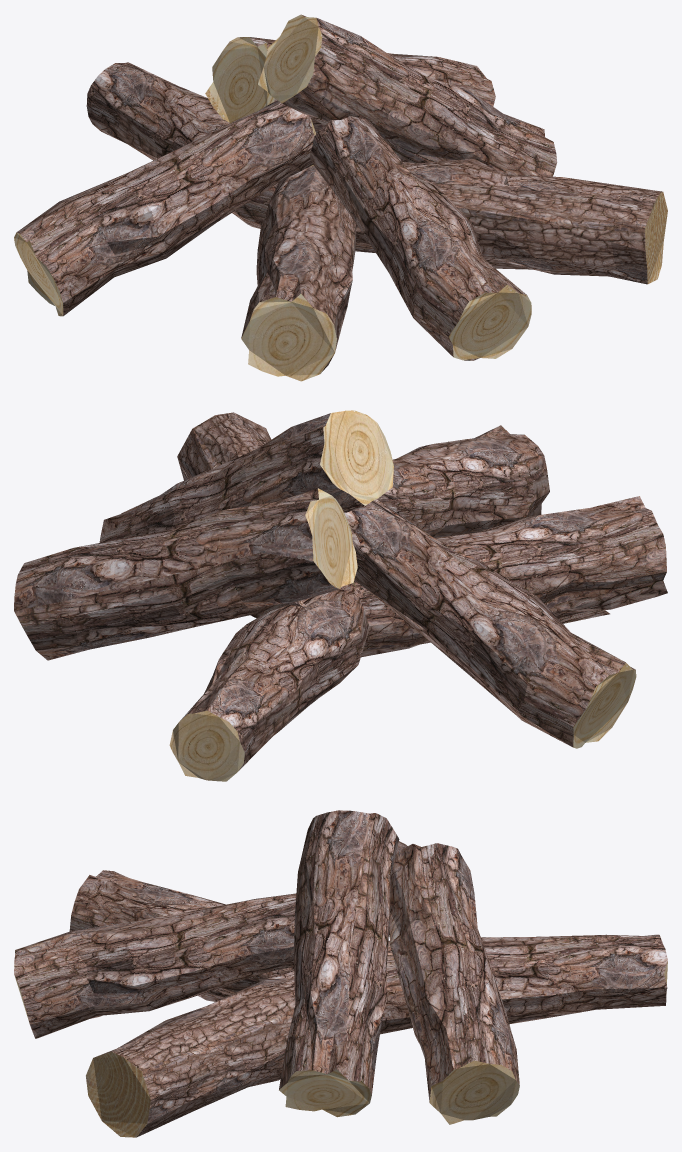
The model's file is Bonfire.fbx.
The picture shows the model from 3 angles, top to bottom: view 1: azimuth 30°, elevation 25°; view 2: azimuth 150°, elevation 25°; view 3: azimuth 270°, elevation 25°; orthographic projection. The views are drawn at different scales.
Parts seen in each view (by area): view 1: Cylinder; view 2: Cylinder; view 3: Cylinder.
Part boxes in pixels (x1,y1,x2,y2): Cylinder: (14, 14, 667, 381); Cylinder: (14, 410, 667, 781); Cylinder: (14, 810, 667, 1137).
Size of the model in its own units: 39.37 by 17.1 by 43.48.
Materials: 2 (2 with a texture image).
